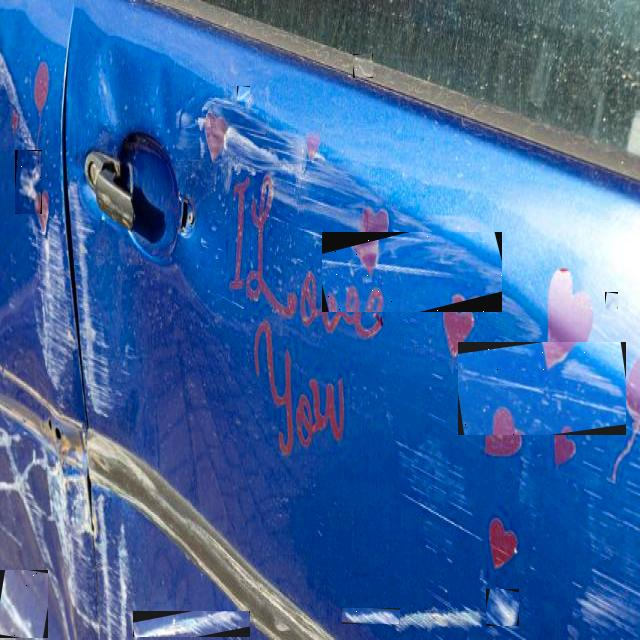Dent: (458, 342, 626, 435), (322, 232, 502, 312), (0, 570, 48, 638), (133, 611, 250, 637), (15, 150, 42, 214), (486, 589, 519, 626), (342, 608, 400, 624), (353, 54, 373, 78), (605, 292, 618, 309), (237, 86, 250, 102)
